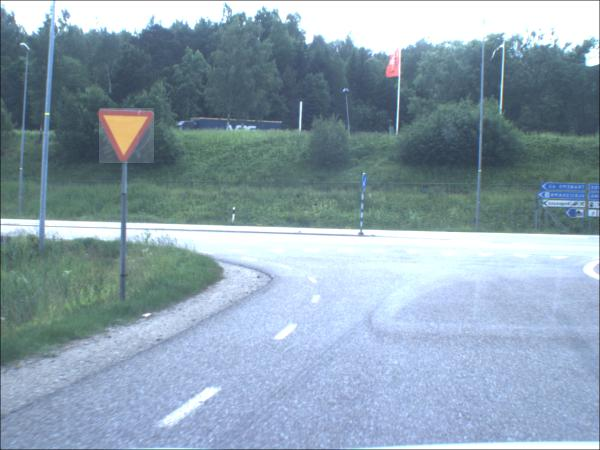GIVE_WAY: (99, 109, 155, 165)
PASS_RIGHT_SIDE: (361, 173, 368, 192)
